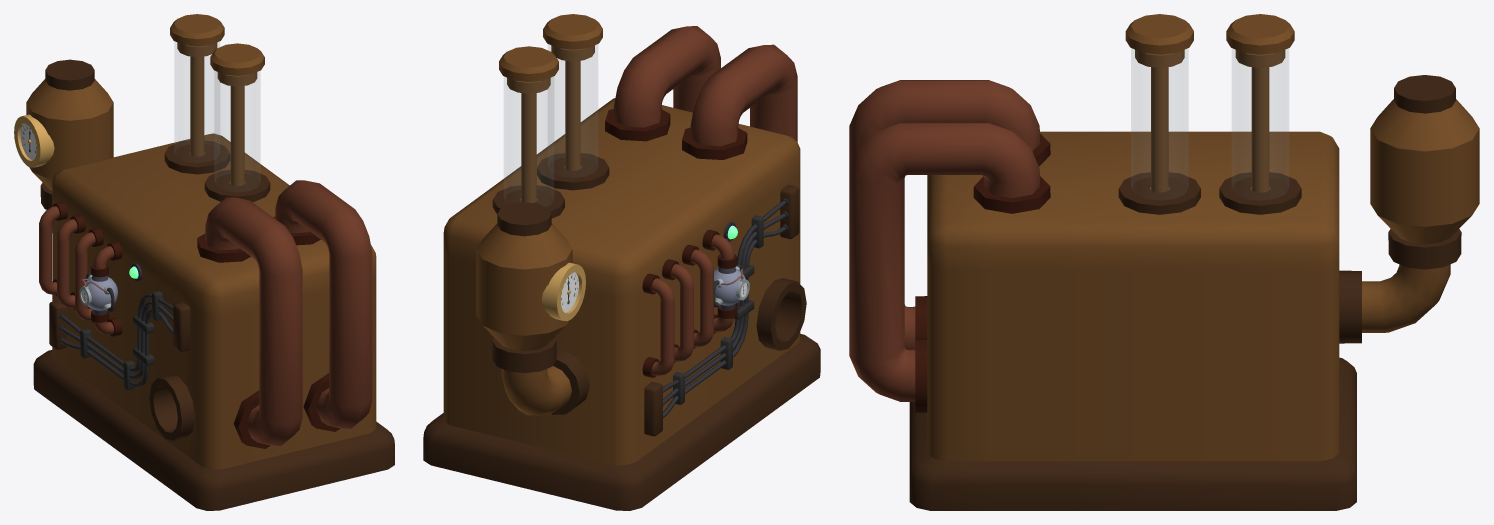
Rendered from Generator (2).fbx.
3 renders of one model, left to right at view 1: azimuth 30°, elevation 25°; view 2: azimuth 150°, elevation 25°; view 3: azimuth 270°, elevation 25°, orthographic. The views are drawn at different scales.
Parts seen in each view (by area): view 1: Generator_Body, Generator_Piston_R, Generator_Piston_L, Generator_Steamcore_Body; view 2: Generator_Body, Generator_Piston_L, Generator_Piston_R, Generator_Steamcore_Body; view 3: Generator_Body, Generator_Piston_L, Generator_Piston_R.
Part boxes in pixels (x1=…): Generator_Body: x1=14, y1=14, x2=394, y2=510; Generator_Piston_R: x1=217, y1=72, x2=257, y2=186; Generator_Piston_L: x1=177, y1=42, x2=217, y2=156; Generator_Steamcore_Body: x1=79, y1=273, x2=117, y2=314; Generator_Body: x1=423, y1=14, x2=820, y2=510; Generator_Piston_L: x1=507, y1=77, x2=550, y2=202; Generator_Piston_R: x1=551, y1=45, x2=594, y2=170; Generator_Steamcore_Body: x1=714, y1=264, x2=749, y2=310; Generator_Body: x1=849, y1=14, x2=1479, y2=510; Generator_Piston_L: x1=1235, y1=50, x2=1285, y2=192; Generator_Piston_R: x1=1135, y1=49, x2=1184, y2=192.
Bounding box in the file's own units: 153 × 237 × 304.
Materials: 19 (2 with a texture image).
